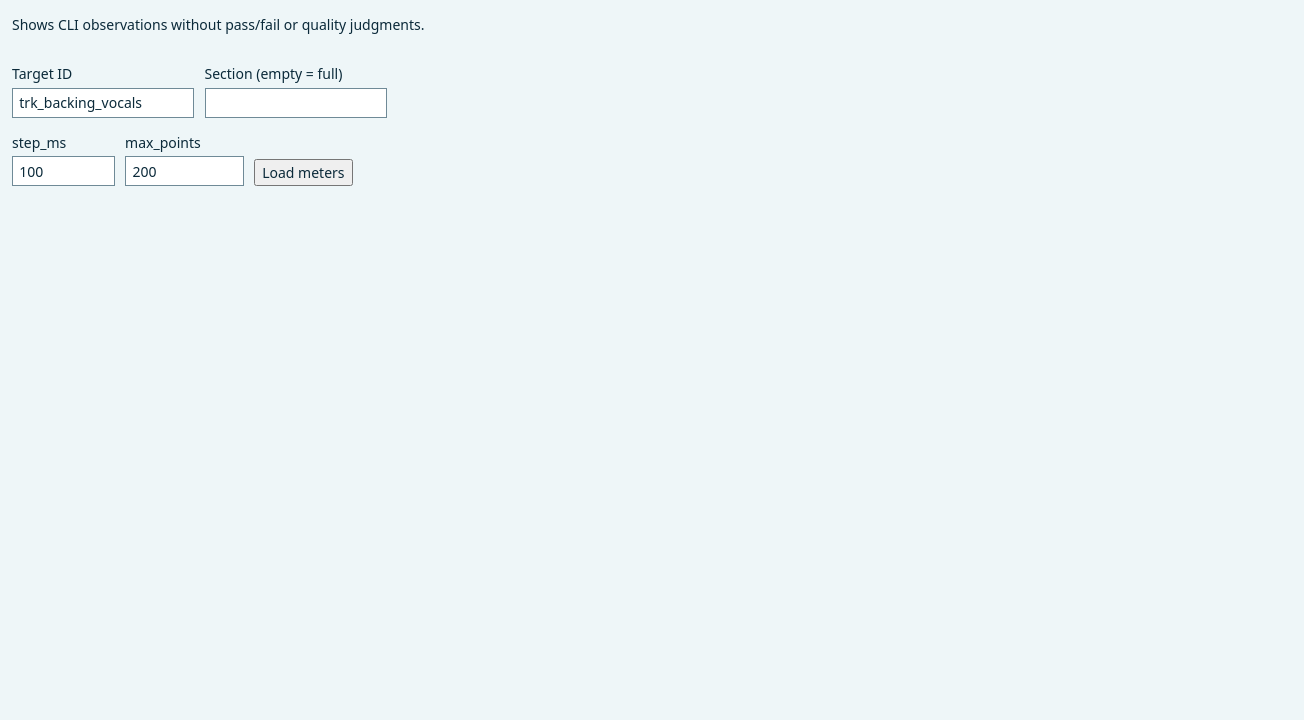
Test: OQ-3 observation panels › reads selected meter bins without recomputing measurements
The width and height of the screenshot is (1304, 720).
Later steps or results of the test are not shown.
Click the button "Load meters": [303, 172] box [254,159,352,186]
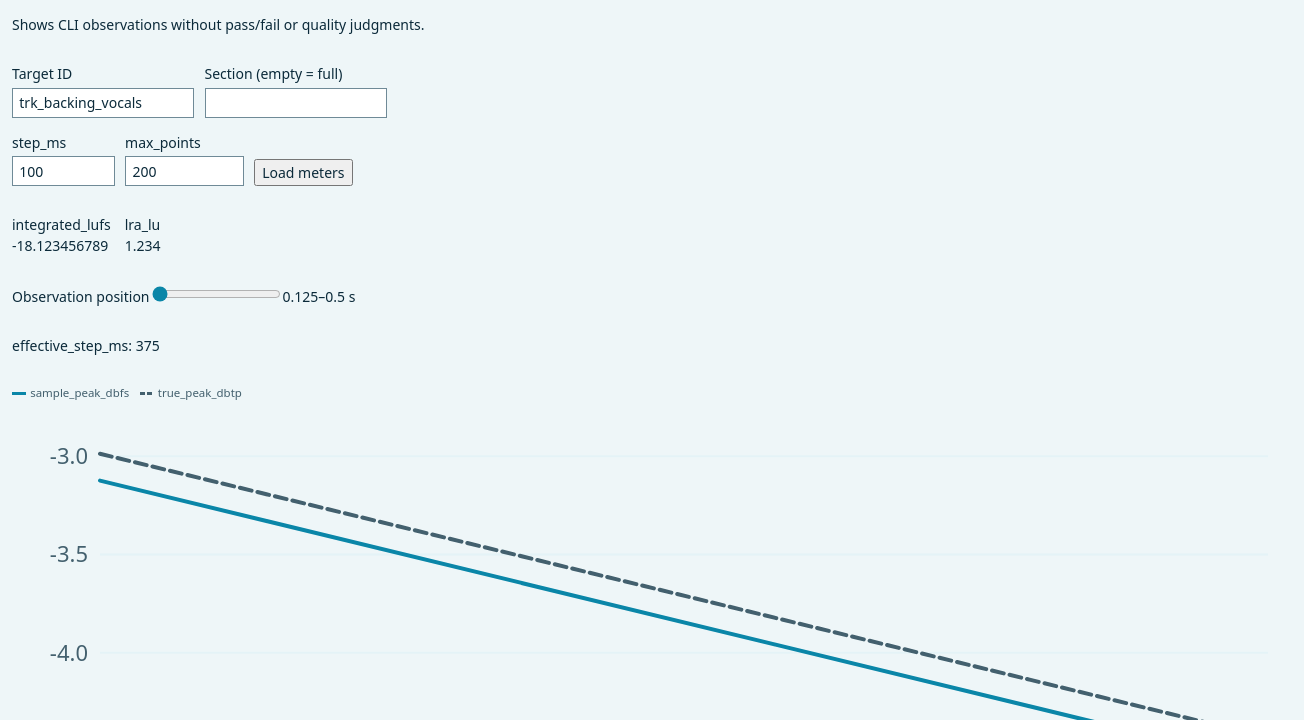
Expected: the text "-18.123456789" is shown, [12,235,111,256]
